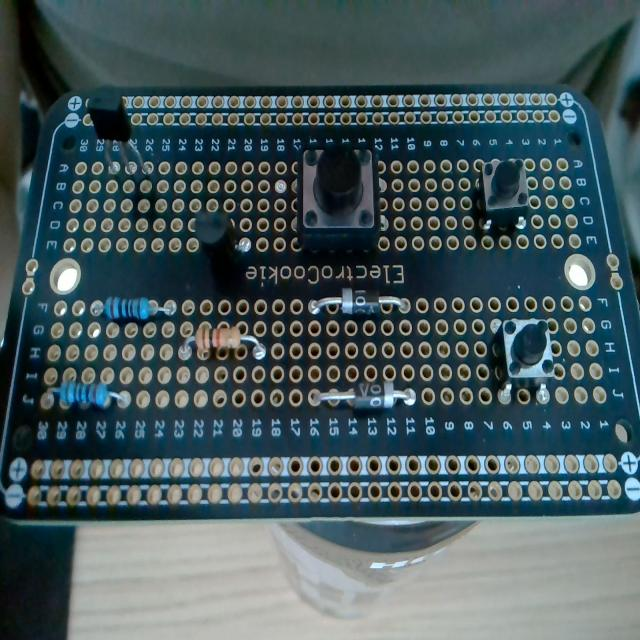diode: (311, 380, 418, 410), (310, 288, 412, 316)
resistor: (180, 326, 267, 361), (50, 379, 130, 411), (92, 296, 176, 321)
switch: (295, 142, 383, 254), (497, 318, 556, 384), (477, 158, 528, 232)
transistor: (87, 87, 150, 179), (192, 208, 252, 263)
